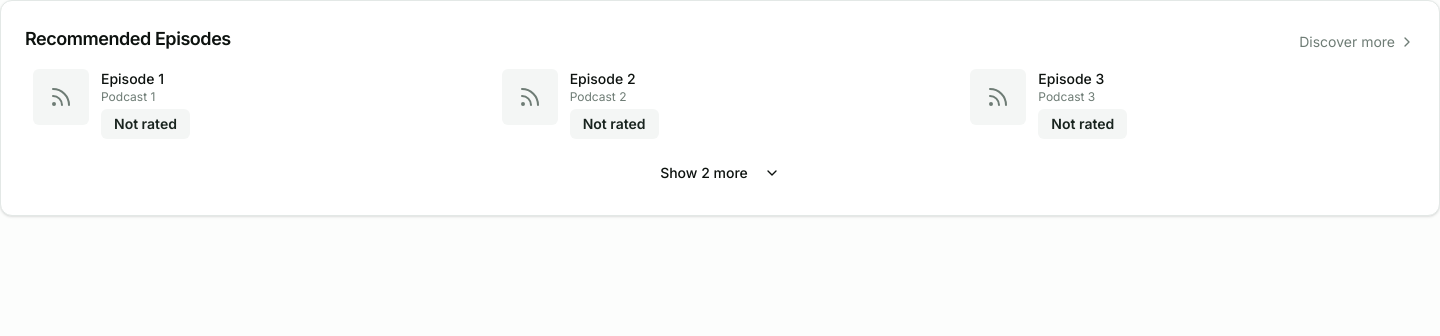
Scenario: EpisodeRecommendations › shows 'Show less' button after expanding and re-collapses when clicked
Step 1. Click the button "Show 2 more" → [720, 173], box [25,155,1415,191]
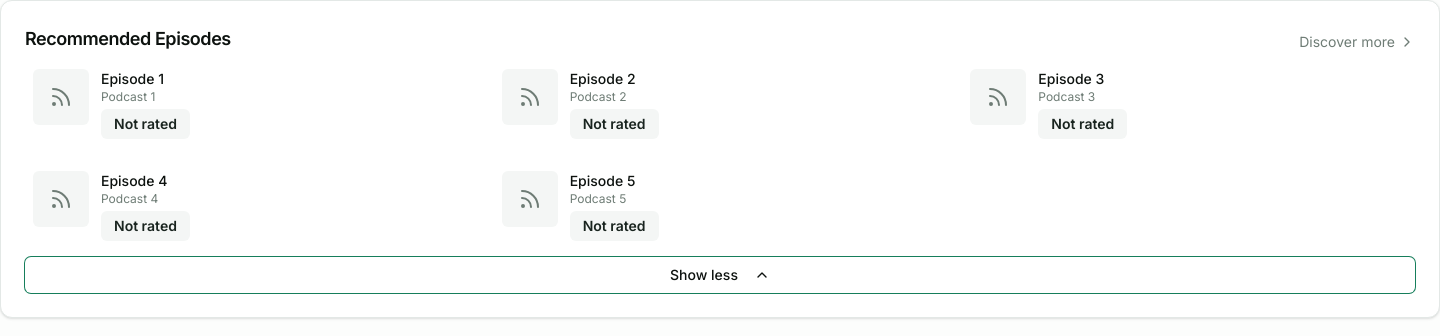
Check: the button "Show less" is shown
Step 2. Click the button "Show less" → [720, 275], box [25,257,1415,293]
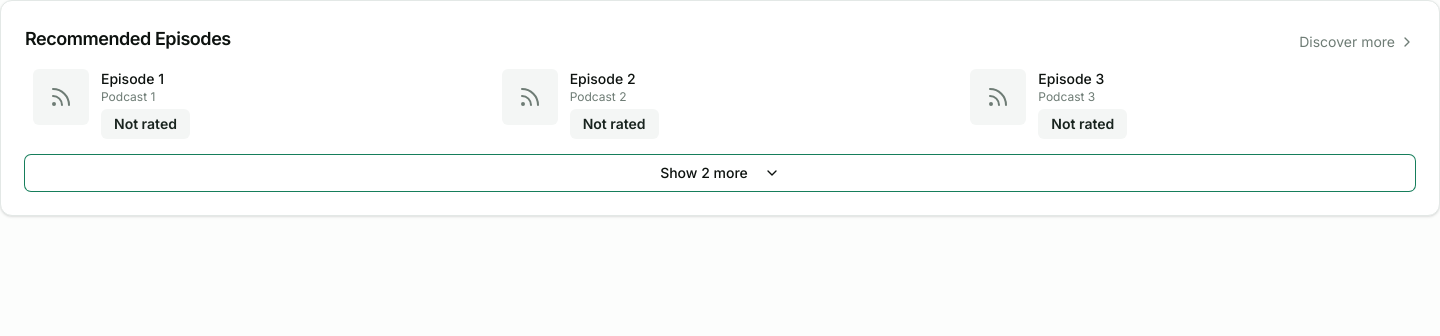
Check: the number of links "Episode 1 Podcast 1 Not rated" is 3, box [33,69,190,139]; [502,69,659,139]; [970,69,1127,139]
Check: the button "Show less" is gone
